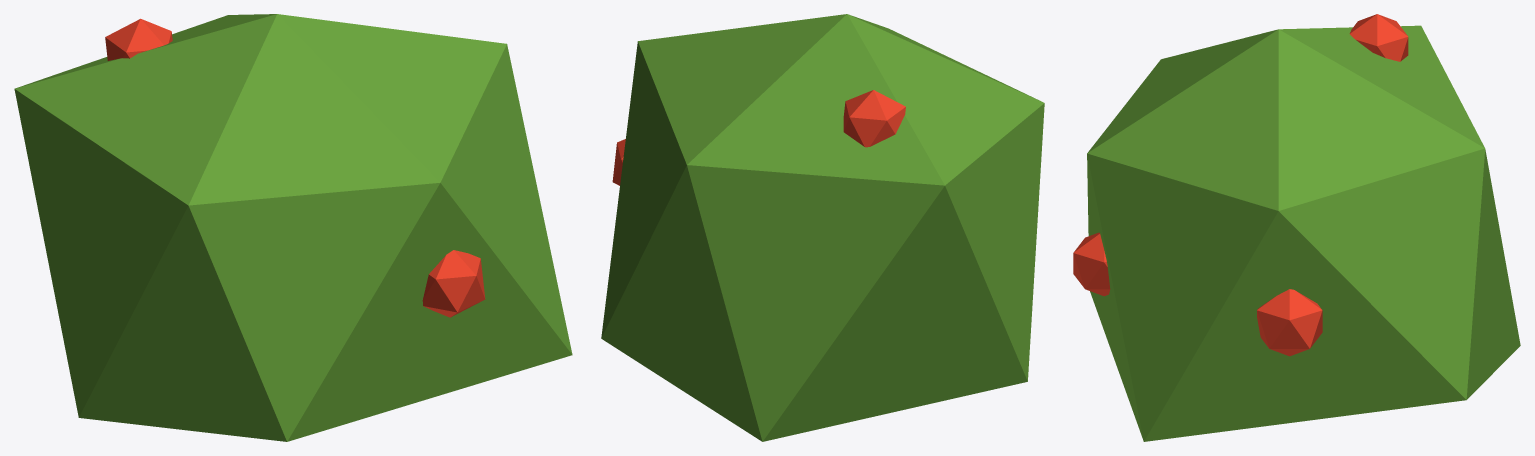
The model's file is Bush_03.fbx.
3 views of the same model, side by side, from view 1: azimuth 30°, elevation 25°; view 2: azimuth 150°, elevation 25°; view 3: azimuth 270°, elevation 25° (orthographic). The views are drawn at different scales.
Parts seen in each view (by area): view 1: Bush_03; view 2: Bush_03; view 3: Bush_03.
Part boxes in pixels (bbox=[...]): Bush_03: bbox=[14, 14, 572, 441]; Bush_03: bbox=[601, 14, 1044, 441]; Bush_03: bbox=[1073, 14, 1520, 441].
Size of the model in its own units: 196 by 167 by 185.
